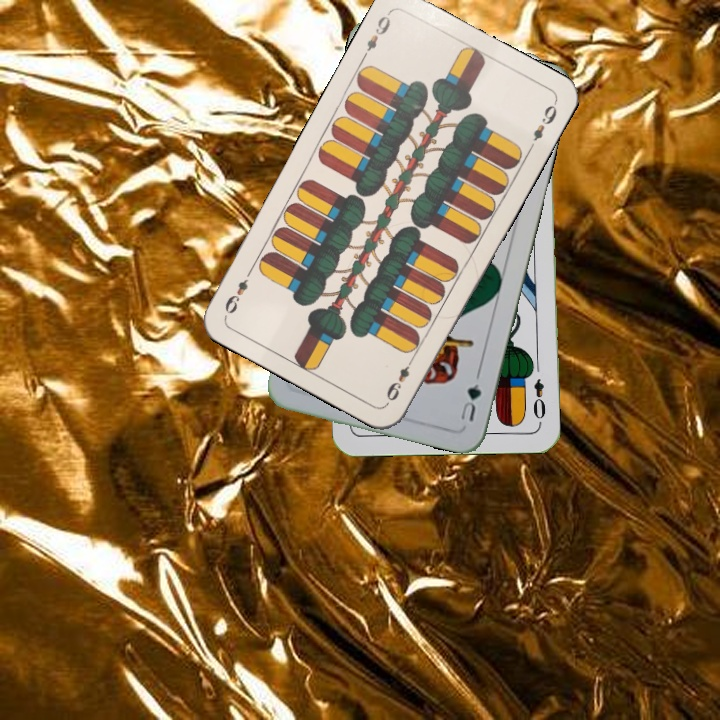E9: (358, 8, 394, 62), (382, 352, 417, 406)
EO: (528, 375, 549, 427)
GU: (456, 379, 484, 424)
